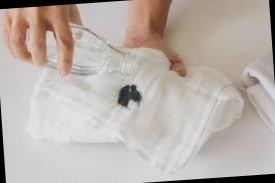ink: (118, 85, 143, 107)
